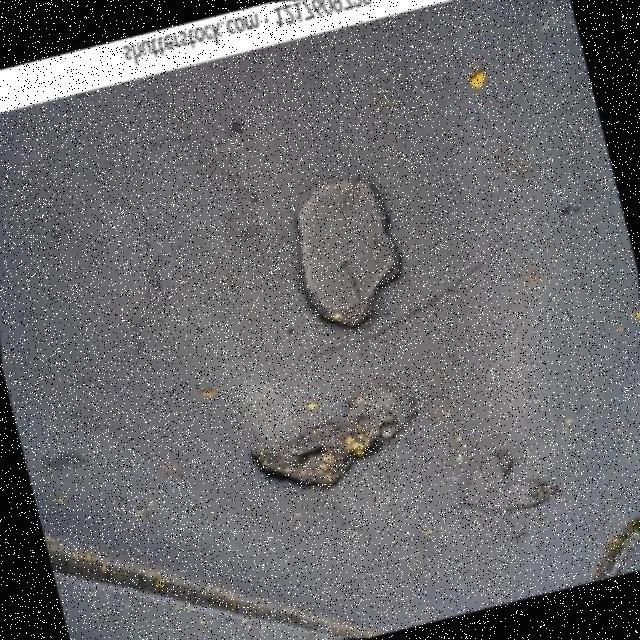Pothole: (250, 385, 419, 490), (295, 176, 403, 331)
